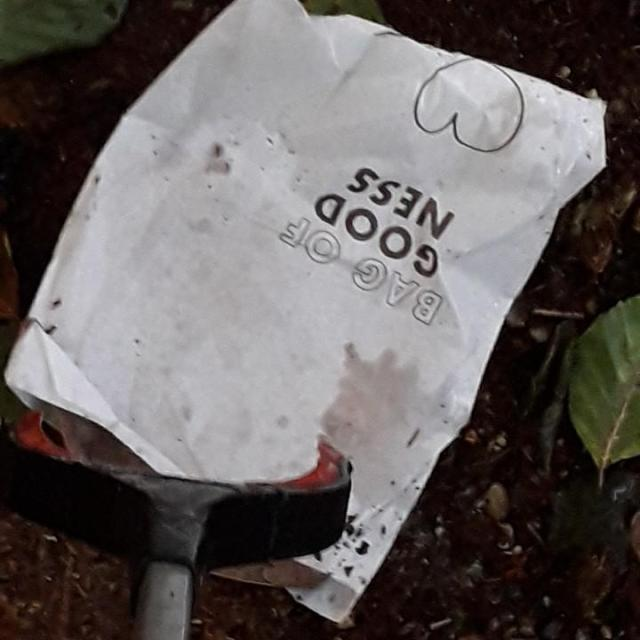Paper: (3, 0, 609, 626)
